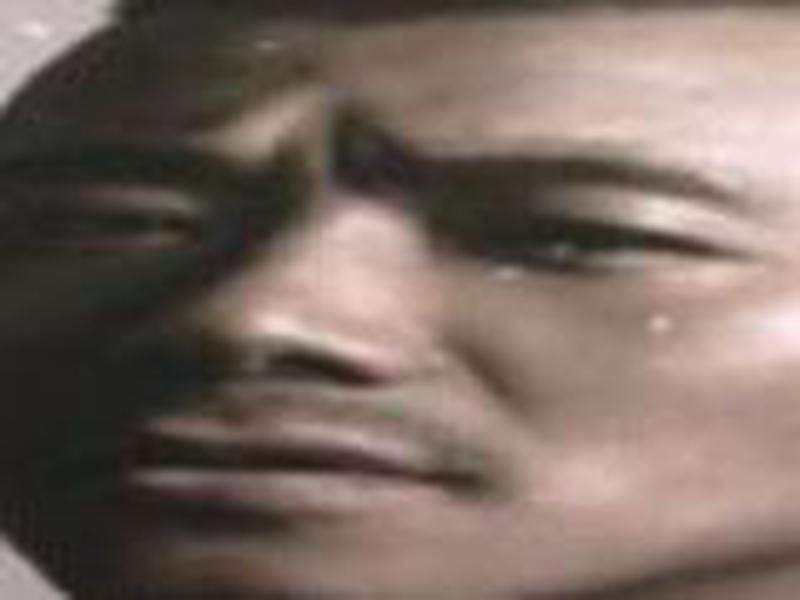without_mask: (4, 8, 793, 600)
